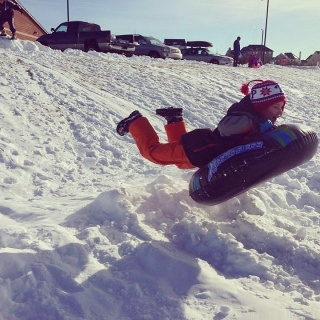without_mask: (266, 101, 282, 124), (250, 51, 254, 56)
